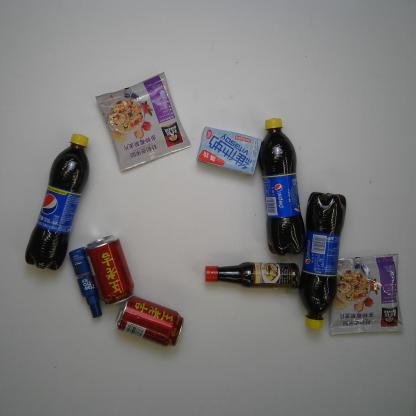Drink: (24, 133, 91, 271), (297, 188, 347, 330), (257, 117, 306, 257), (115, 295, 186, 348), (83, 234, 135, 306)
Instant Drink: (96, 70, 193, 173), (327, 250, 405, 337)
Milk: (195, 124, 264, 176)
Personal Hygiene: (68, 246, 104, 318)
Seasoner: (204, 260, 302, 289)
